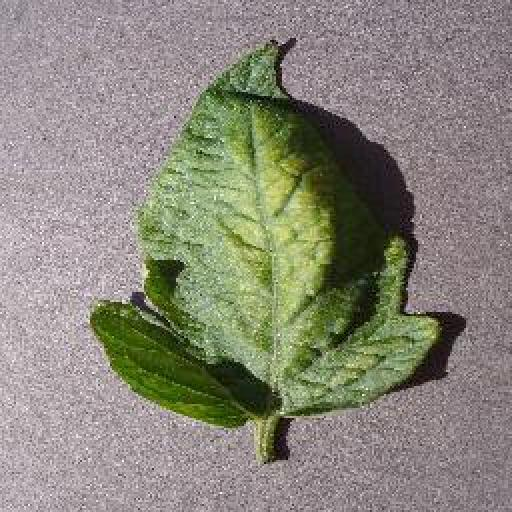disease_tomato: (92, 37, 438, 427)
